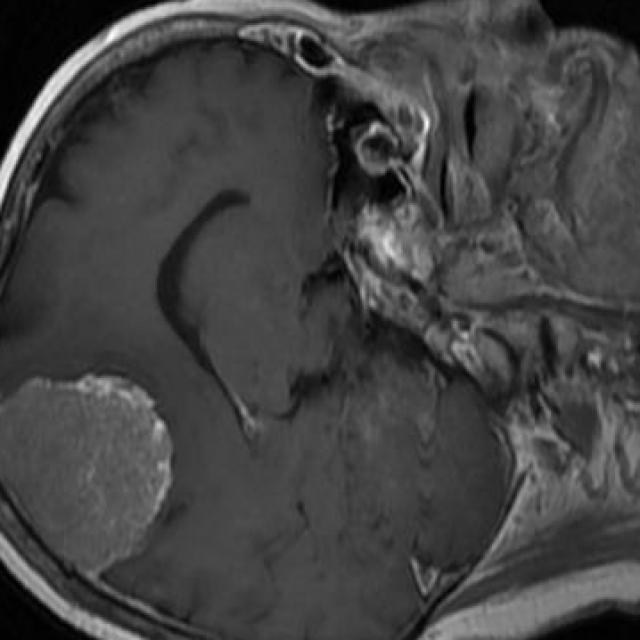meningioma: (0, 378, 173, 578)
